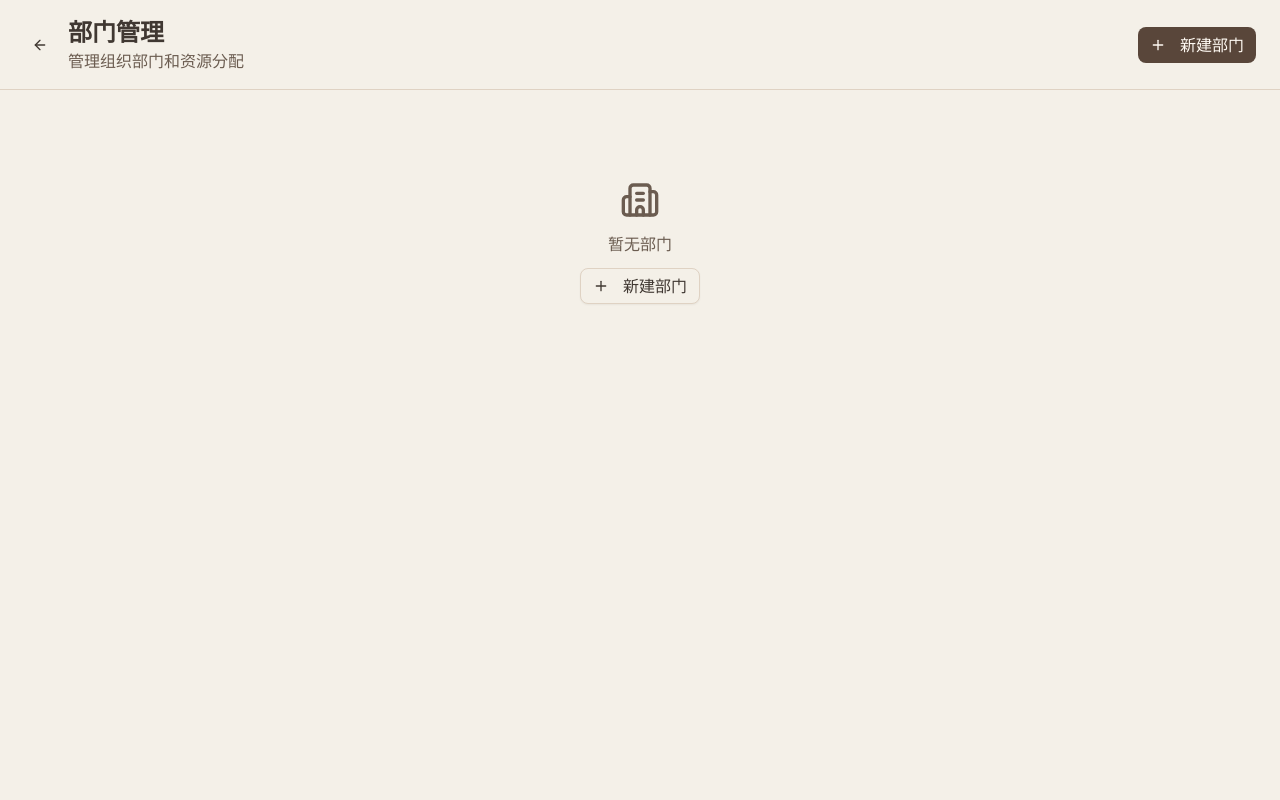
DepartmentsPage › opens create dialog from empty state button and resets fields
Check: the text "暂无部门" is shown, box [608,232,672,256]
// There are two "新建部门" buttons: header [0] and empty state [1]
Click the button "新建部门" below "暂无部门".
click(640, 286)  # box [580,268,700,304]
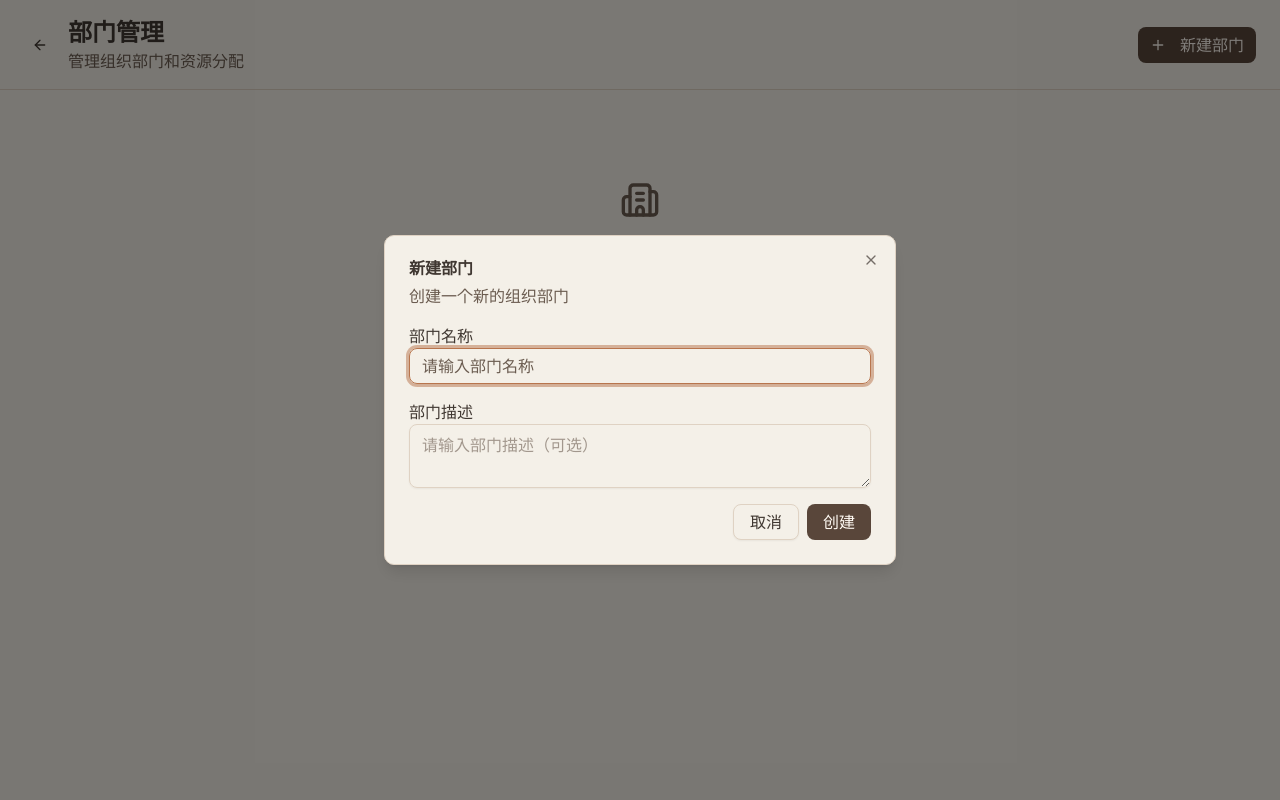
Check: the text "创建一个新的组织部门" is shown, box [409,285,569,307]
Check: the field with placeholder "请输入部门名称" is empty, box [409,348,871,384]
Check: the text box with placeholder "请输入部门描述（可选）" is empty, box [409,424,871,488]
